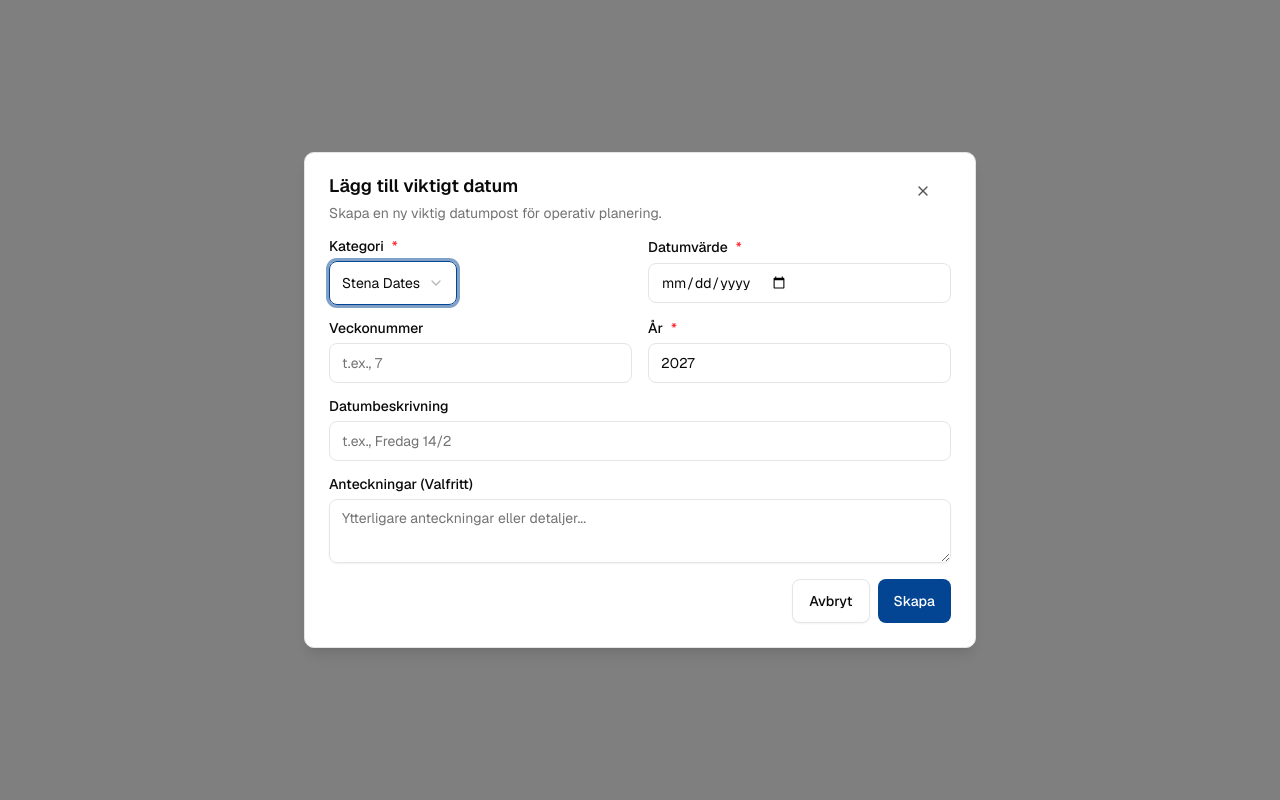
Test: AddImportantDateModal › Category Selection › should show deadline fields when category is PE3 Dates
# Select PE3 Dates category
Click the dropdown named "kategori".
click(393, 283)  # box top-left (329, 261), bottom-right (457, 305)
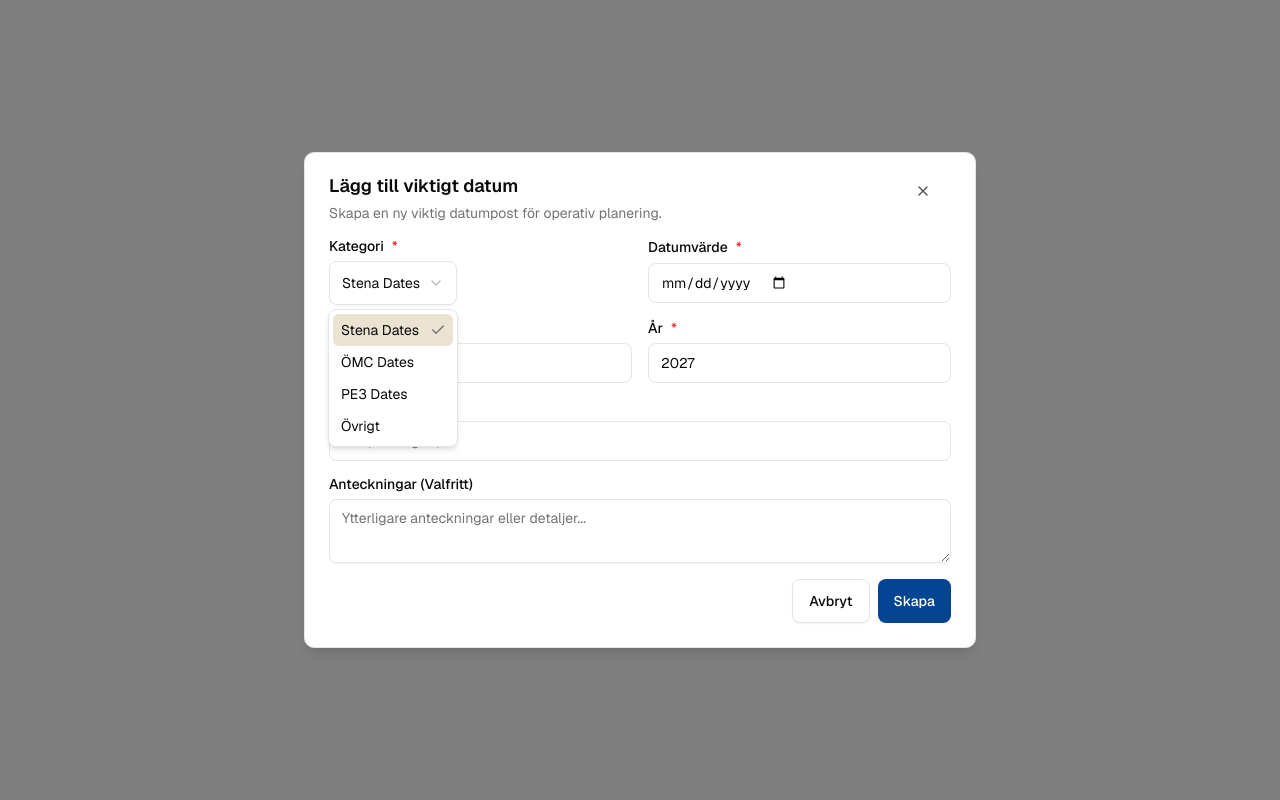
Check: the option "PE3 Dates" is shown
Click the option "PE3 Dates".
click(374, 394)  # box top-left (341, 385), bottom-right (408, 403)
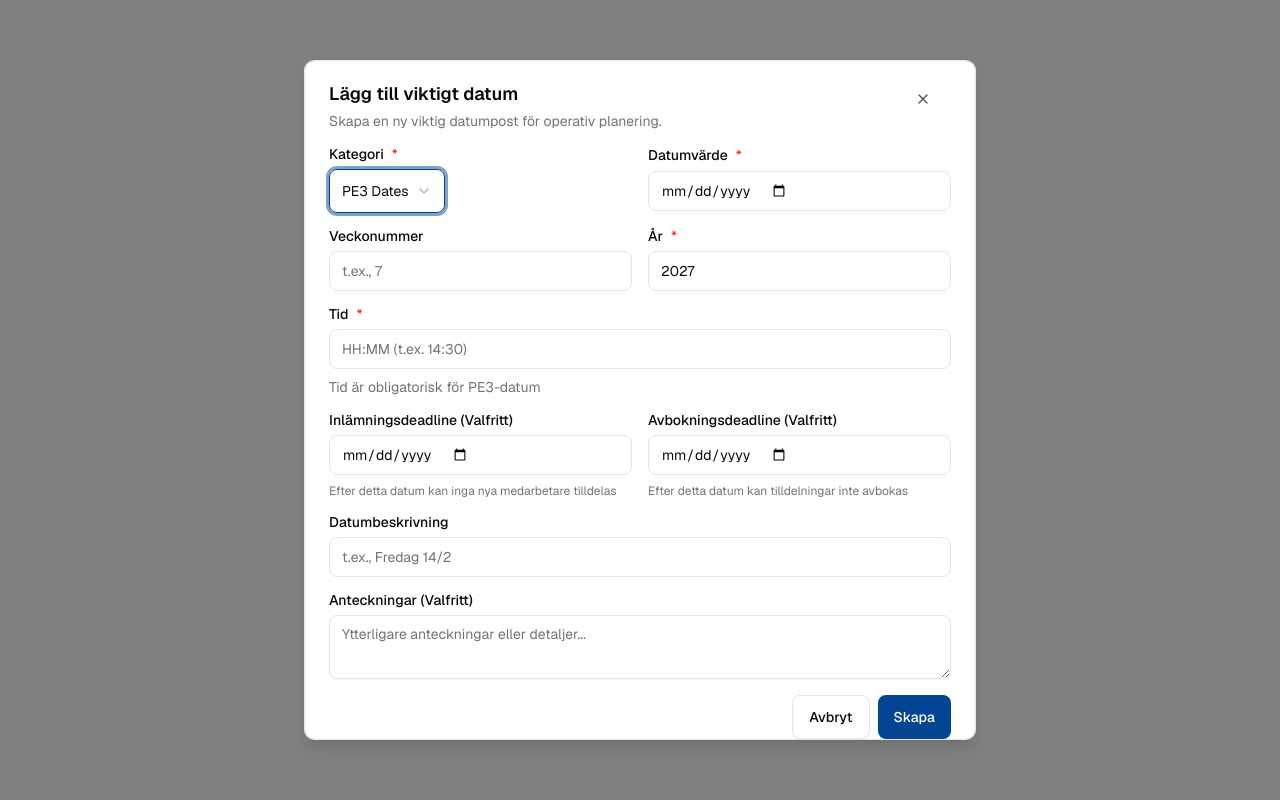
Check: the date field labelled "Inlämningsdeadline (Valfritt)" is shown, box top-left (329, 435), bottom-right (632, 475)
Check: the date field labelled "Avbokningsdeadline (Valfritt)" is shown, box top-left (648, 435), bottom-right (951, 475)
